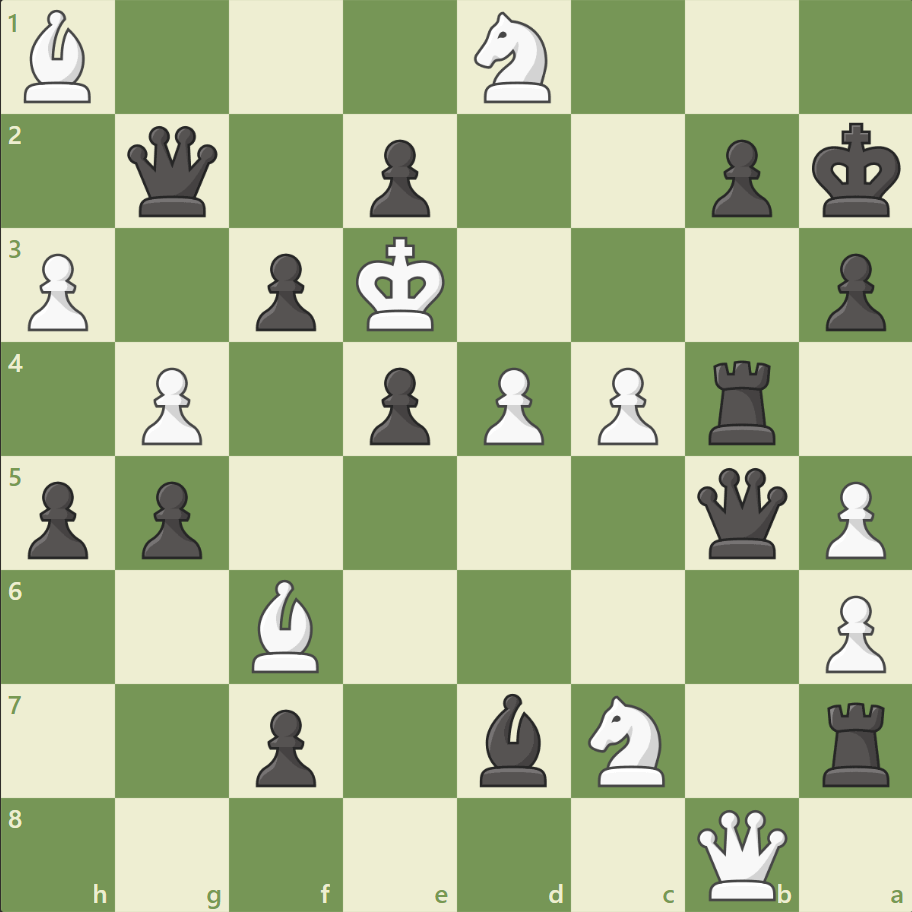B: (17, 6, 101, 109), (244, 574, 328, 676)
K: (351, 231, 451, 339)
N: (579, 688, 676, 791), (465, 7, 562, 110)
P: (474, 359, 549, 450), (133, 359, 208, 450), (20, 246, 95, 337), (815, 586, 889, 677), (815, 473, 889, 564), (588, 359, 662, 450)
Q: (691, 804, 790, 903)
b: (471, 687, 555, 790)
k: (806, 117, 906, 225)
p: (247, 700, 322, 791), (133, 473, 208, 564), (20, 473, 95, 564), (247, 246, 322, 337), (701, 132, 776, 223), (361, 359, 435, 450), (815, 246, 889, 337), (361, 132, 435, 223)
q: (124, 122, 223, 222), (691, 463, 790, 562)
r: (814, 693, 897, 790), (700, 352, 783, 449)
